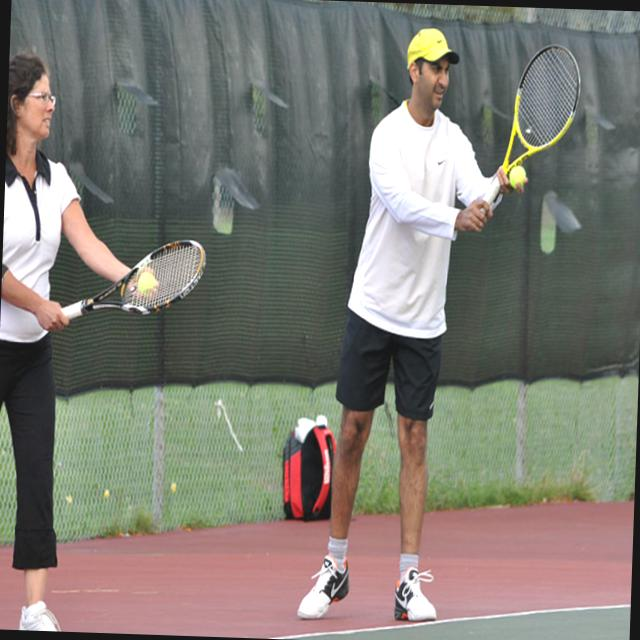Tennis ball: (138, 272, 164, 290), (508, 164, 524, 189)
